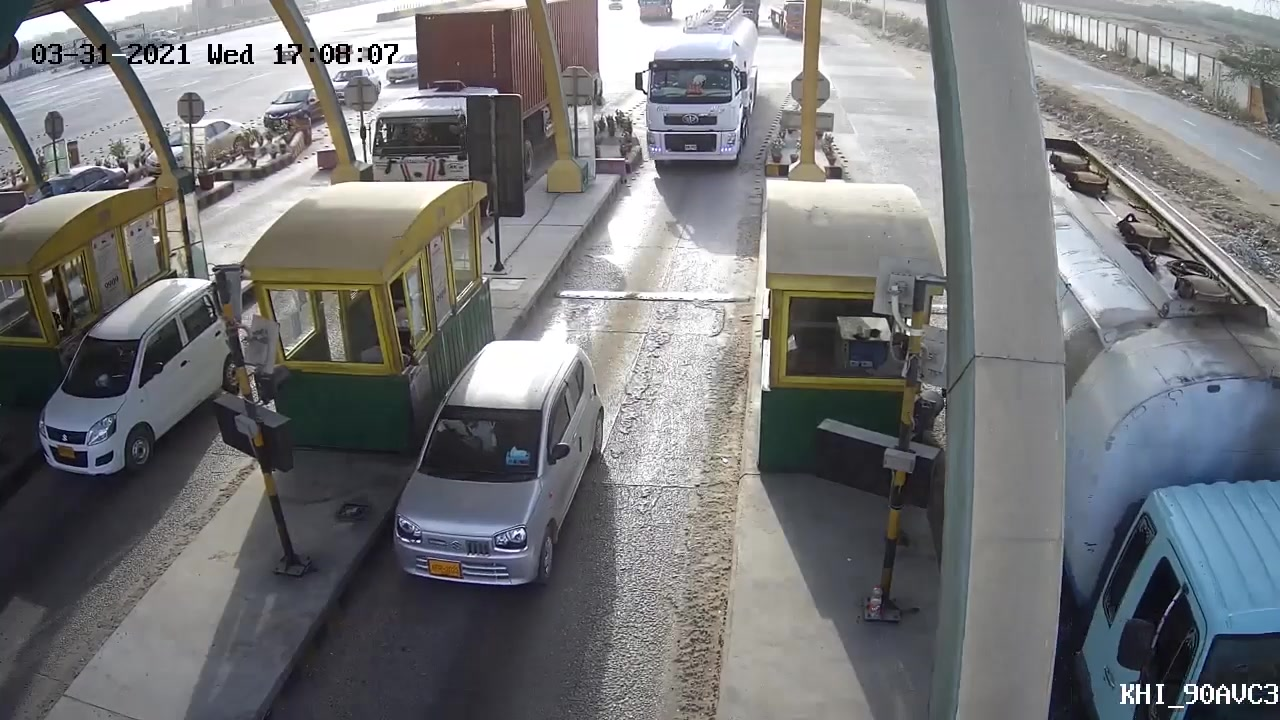F1: (383, 334, 617, 612)
F5: (626, 38, 757, 192)
